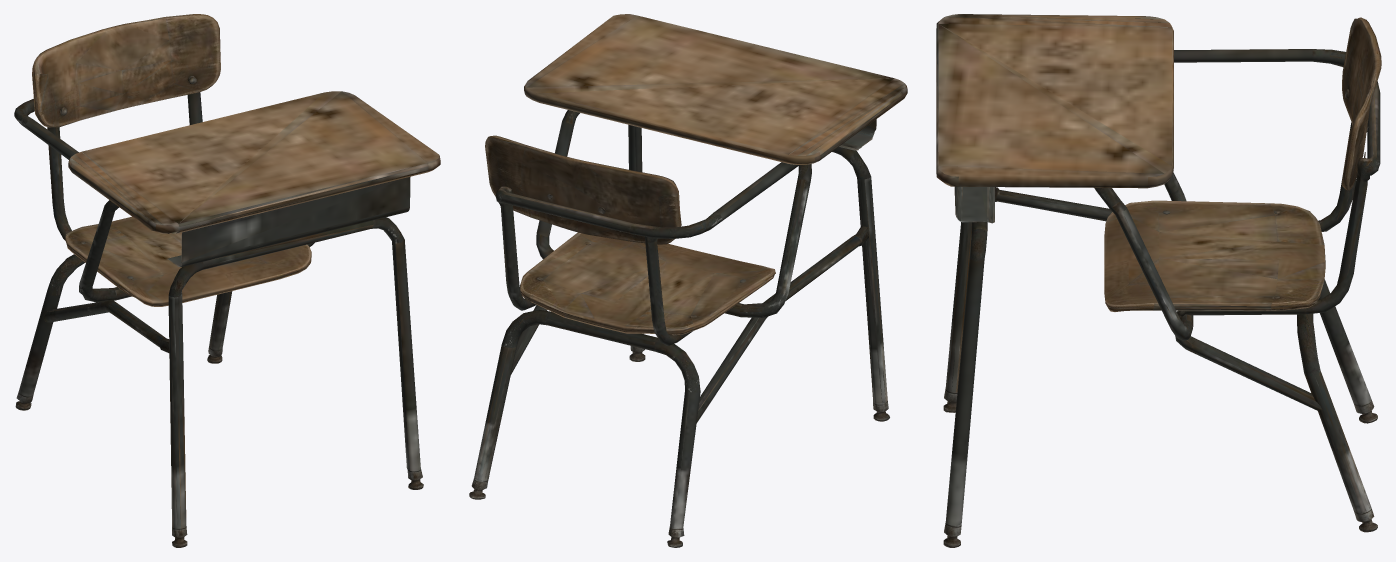
File: prop_student_desk.glb
3 views of the same model, side by side, from view 1: azimuth 30°, elevation 25°; view 2: azimuth 150°, elevation 25°; view 3: azimuth 270°, elevation 25° (orthographic). The views are drawn at different scales.
Size of the model in its own units: 0.8042 by 0.9517 by 0.9229.
Materials: 1 (1 with a texture image).
